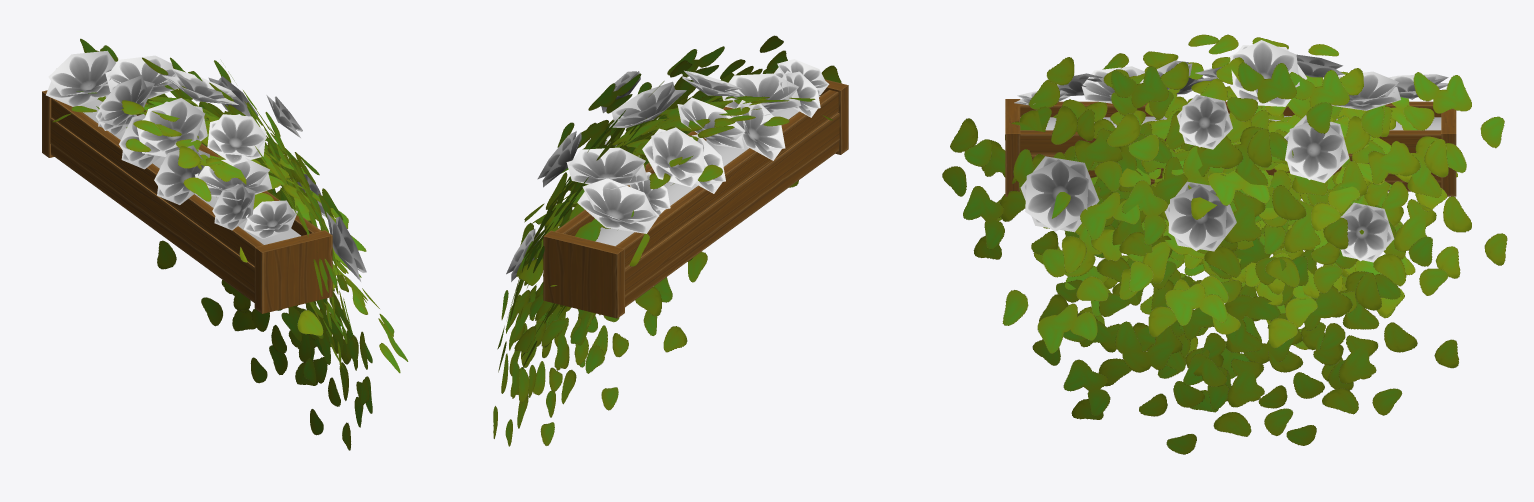
The model's file is SM_FlowerPlanter_01.fbx.
3 renders of one model, left to right at view 1: azimuth 30°, elevation 25°; view 2: azimuth 150°, elevation 25°; view 3: azimuth 270°, elevation 25°, orthographic. The views are drawn at different scales.
Visible parts, largest first — view 1: SM_FlowerPlanter_01_LOD0; view 2: SM_FlowerPlanter_01_LOD0; view 3: SM_FlowerPlanter_01_LOD0.
Boxes of the visible parts, <box> form: SM_FlowerPlanter_01_LOD0: <box>42,38,408,450</box>; SM_FlowerPlanter_01_LOD0: <box>493,35,848,446</box>; SM_FlowerPlanter_01_LOD0: <box>942,34,1507,454</box>.
Size of the model in its own units: 159 by 298 by 232.
